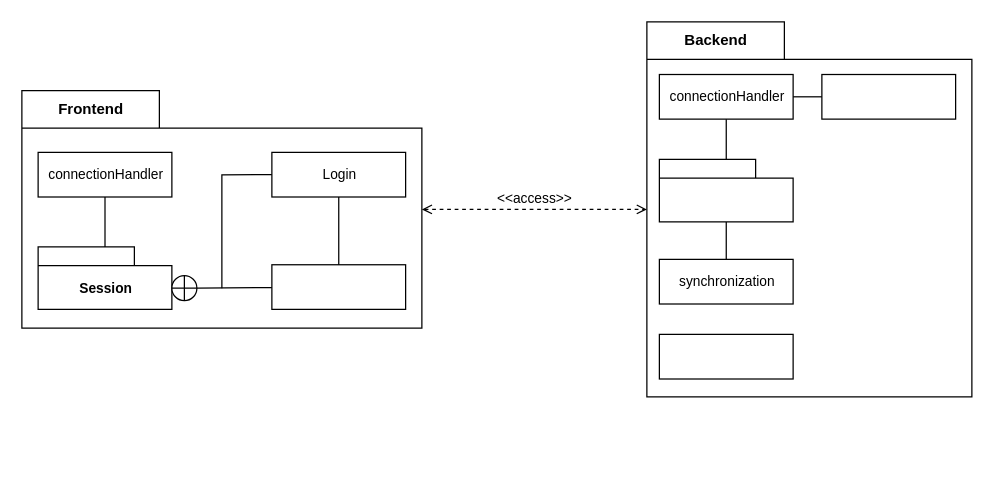
Some shapes in this 994 by 488 pixel diagram are drawn without their labels. Each missing label, with the box of its shape:
DBMS: (658, 158, 793, 222)
eventHandler: (658, 333, 793, 379)
sessionHandler: (271, 264, 406, 309)
SwaggerInterface: (821, 73, 956, 119)
